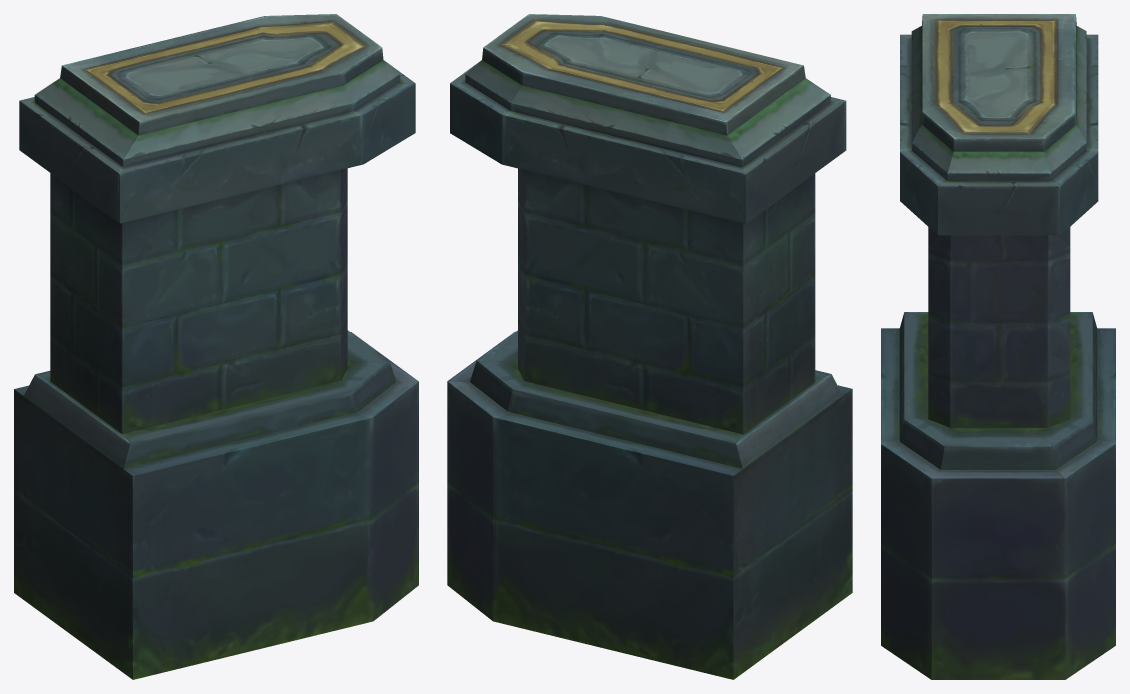
File: zhucheng_langan03.FBX
3 views of the same model, side by side, from view 1: azimuth 30°, elevation 25°; view 2: azimuth 150°, elevation 25°; view 3: azimuth 270°, elevation 25° (orthographic).
Visible parts, largest first — view 1: zhucheng_langan03; view 2: zhucheng_langan03; view 3: zhucheng_langan03.
Boxes of the visible parts, x1,y1,x2,y2 form: zhucheng_langan03: (14,14,418,679); zhucheng_langan03: (447,14,852,679); zhucheng_langan03: (881,14,1115,679).
Size of the model in its own units: 411 by 668 by 269.
